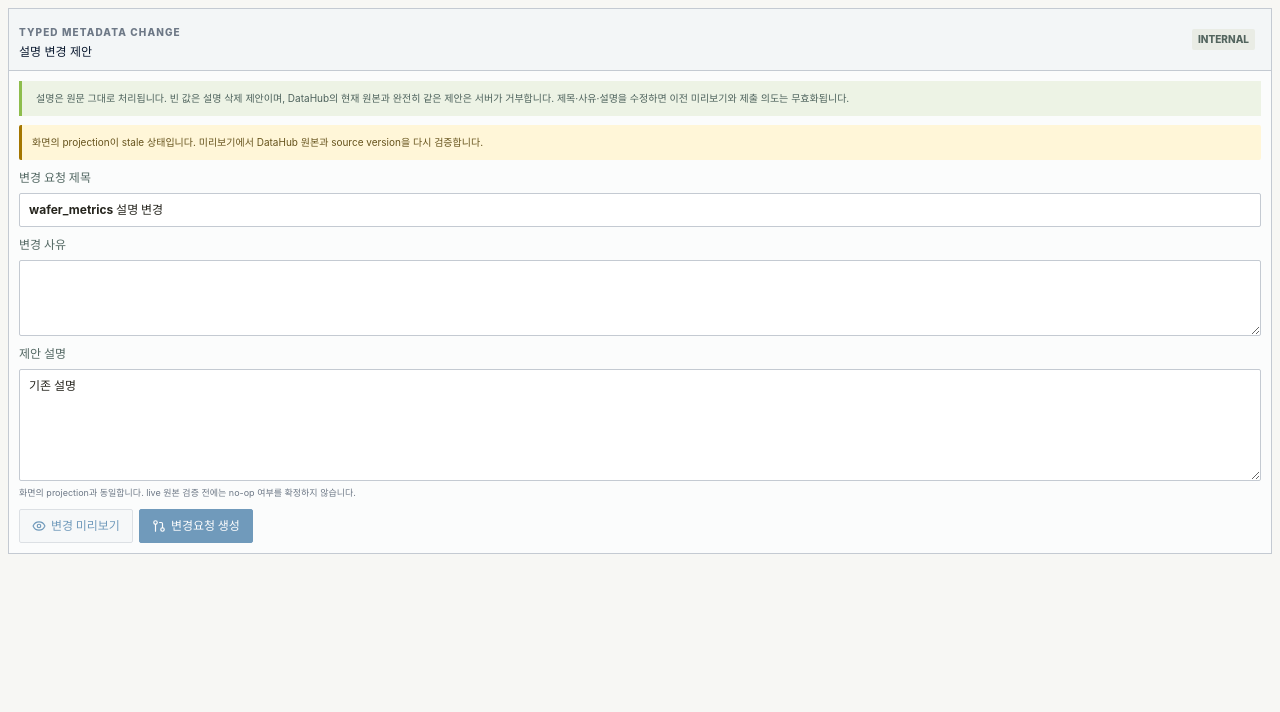
Test: RegistrationDescriptionEditor › allows live preview when the proposal matches a potentially stale projection
This screenshot has width=1280, height=712.
Type "projection에 표시된 설명으로 복원합니다." into the text box labelled "변경 사유" at (640, 298), box 19,260 -> 1261,336
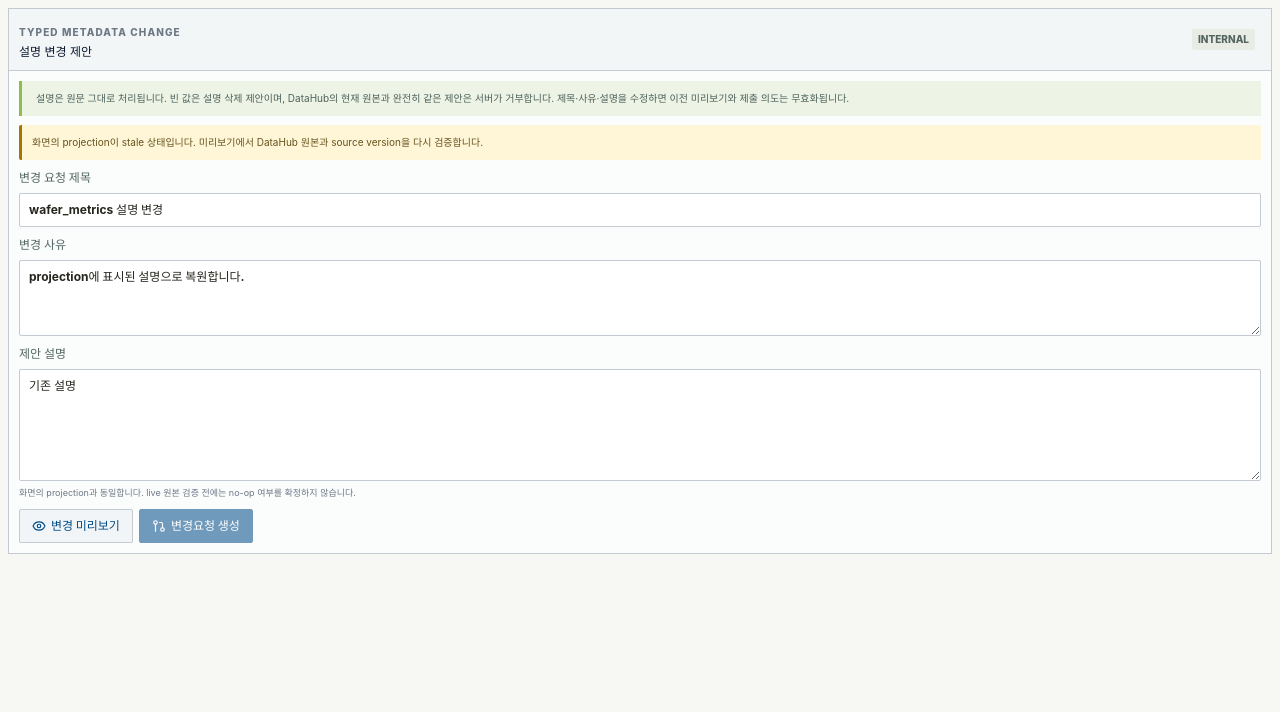
expect the text "화면의 projection과 동일합니다. live 원본 검증 전에는 no-op 여부를 확정하지 않습니다." is shown: met, box 19,487 -> 356,498
expect the button "변경 미리보기" is enabled: met
Click the button "변경 미리보기" at (76, 526), box 19,508 -> 133,542
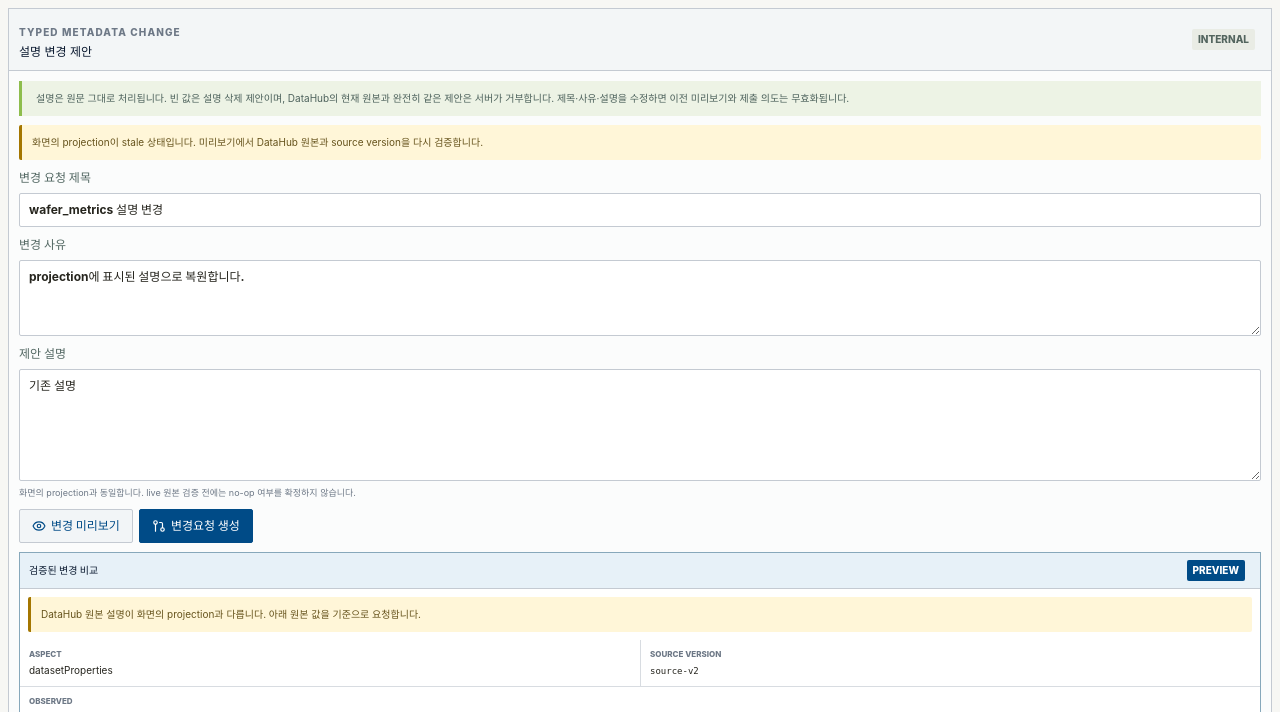
expect the text "DataHub 원본 설명이 화면의 projection과 다릅니다. 아래 원본 값을 기준으로 요청합니다." is shown: met, box 28,596 -> 1252,632
